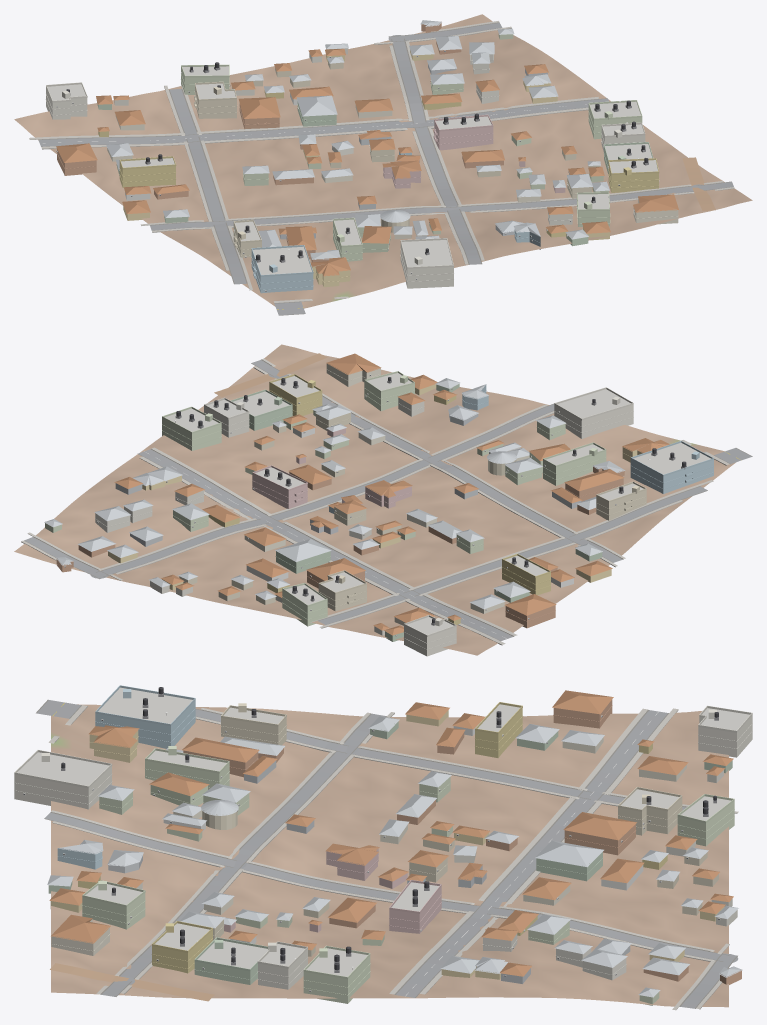
3 renders of one model, top to bottom at view 1: azimuth 30°, elevation 25°; view 2: azimuth 150°, elevation 25°; view 3: azimuth 270°, elevation 25°, orthographic. The views are drawn at different scales.
Parts seen in each view (by area): view 1: Terrain-col, Buildings-col, Roads-col, Sidewalks-col, Details; view 2: Terrain-col, Buildings-col, Roads-col, Sidewalks-col, Details; view 3: Terrain-col, Buildings-col, Roads-col, Sidewalks-col, Details.
Part boxes in pixels (x1,y1,x2,y2): Terrain-col: (14,14,752,308); Buildings-col: (46,20,678,293); Roads-col: (38,22,733,315); Sidewalks-col: (29,21,734,303); Details: (45,48,678,291); Terrain-col: (14,344,735,655); Buildings-col: (44,353,713,656); Roads-col: (24,353,752,641); Sidewalks-col: (21,358,729,645); Details: (64,369,714,649); Terrain-col: (51,704,728,1007); Buildings-col: (14,687,752,1005); Roads-col: (36,699,738,1008); Sidewalks-col: (48,705,738,1010); Details: (14,685,752,995).
Size of the model in its own units: 268 by 22 by 279.
